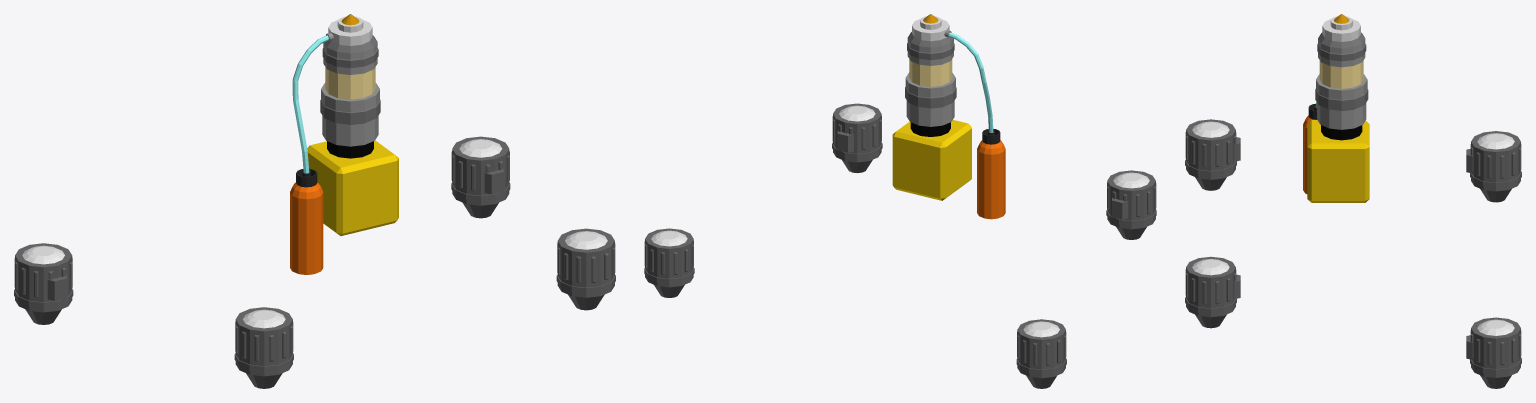
Rendered from laserAndLights.fbx.
3 views of the same model, side by side, from view 1: azimuth 30°, elevation 25°; view 2: azimuth 150°, elevation 25°; view 3: azimuth 270°, elevation 25° (orthographic). The views are drawn at different scales.
Visible parts, largest first — view 1: Laser, Lights; view 2: Laser, Lights; view 3: Lights, Laser.
Boxes of the visible parts, bbox=[...] form: Laser: bbox=[290, 14, 398, 274]; Lights: bbox=[14, 136, 615, 388]; Laser: bbox=[892, 14, 1005, 219]; Lights: bbox=[644, 103, 1156, 388]; Lights: bbox=[1185, 119, 1521, 388]; Laser: bbox=[1303, 14, 1369, 202].
Bounding box in the file's own units: 147 × 100 × 91.26.
3 materials, 1 textured.
